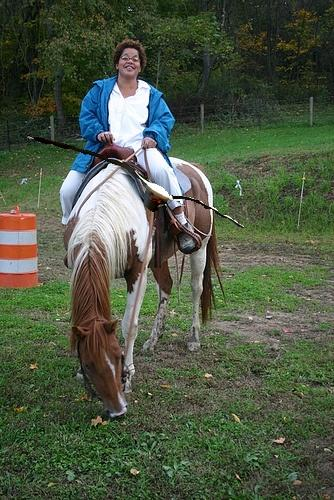tampered: (27, 136, 244, 228)
